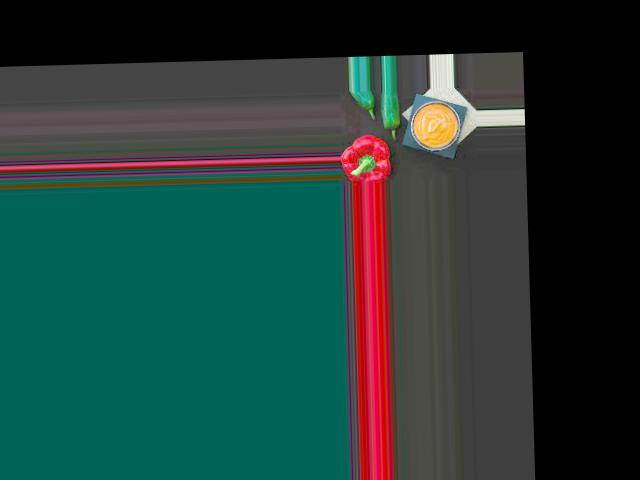bell_pepper: (342, 135, 391, 181)
